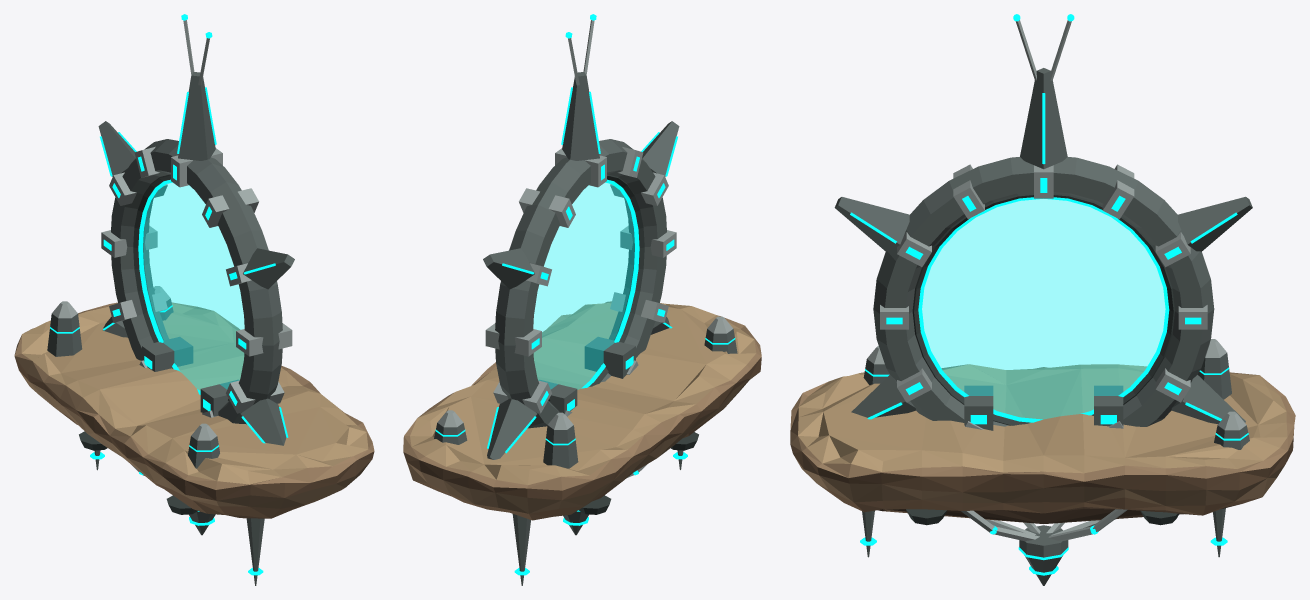
File: base-warp.glb
3 views of the same model, side by side, from view 1: azimuth 30°, elevation 25°; view 2: azimuth 150°, elevation 25°; view 3: azimuth 270°, elevation 25° (orthographic). The views are drawn at different scales.
Parts seen in each view (by area): view 1: ilha, portal, portal_membrana, pendurados; view 2: ilha, portal, portal_membrana, pendurados; view 3: ilha, portal, portal_membrana, pendurados.
Part boxes in pixels (box(x1,y1,x2,y2)): ilha: box(14, 286, 374, 518); portal: box(98, 14, 294, 445); portal_membrana: box(142, 183, 244, 390); pendurados: box(90, 450, 264, 585); ilha: box(403, 301, 761, 520); portal: box(483, 14, 679, 459); portal_membrana: box(533, 183, 635, 389); pendurados: box(512, 450, 687, 585); ilha: box(790, 339, 1295, 525); portal: box(834, 14, 1252, 429); portal_membrana: box(922, 199, 1165, 418); pendurados: box(860, 508, 1227, 585).
Bounding box in the file's own units: 79.94 × 193 × 156.
